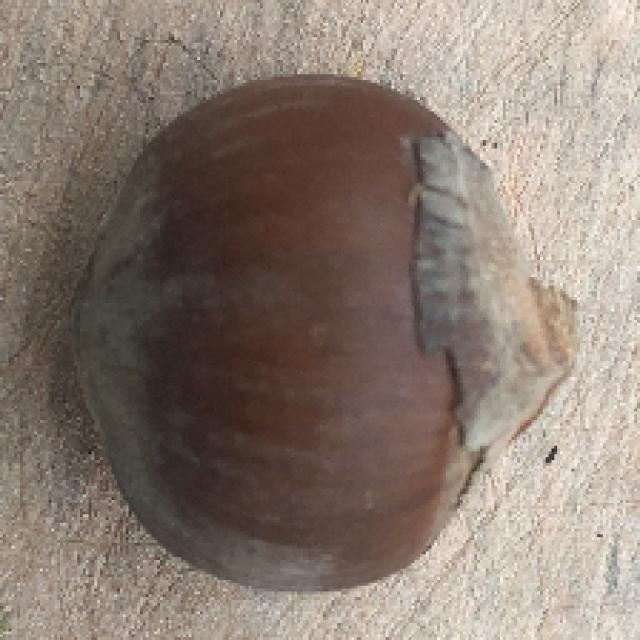damagedHazelnut: (57, 71, 587, 587)
